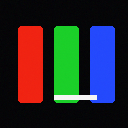3 line_h: (54, 95, 96, 99)
